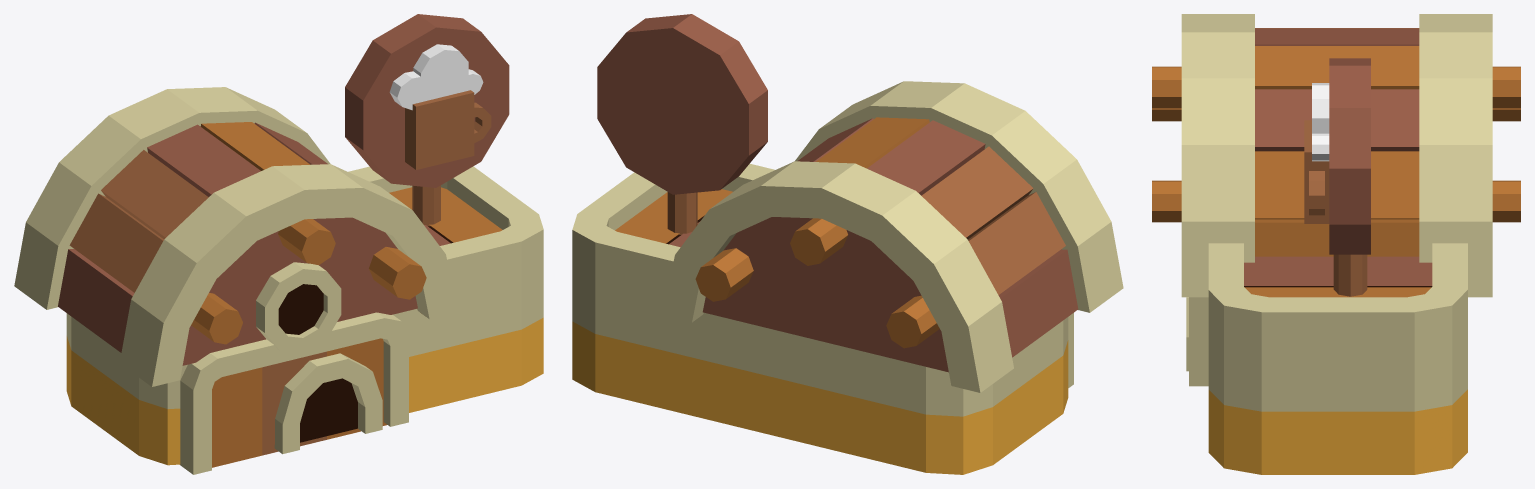
Rendered from tavern.fbx.
The picture shows the model from 3 angles, left to right: view 1: azimuth 30°, elevation 25°; view 2: azimuth 150°, elevation 25°; view 3: azimuth 270°, elevation 25°; orthographic projection. The views are drawn at different scales.
Parts seen in each view (by area): view 1: tavern; view 2: tavern; view 3: tavern.
Part boxes in pixels (left/top/right/bottom): tavern: left=14, top=14, right=543, bottom=474; tavern: left=572, top=14, right=1123, bottom=474; tavern: left=1152, top=14, right=1520, bottom=474.
Bounding box in the file's own units: 277 × 207 × 185.
